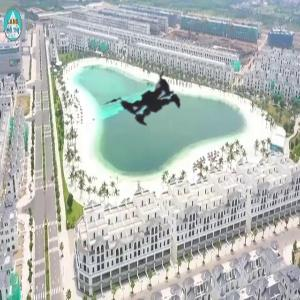drone: (80, 29, 220, 169)
